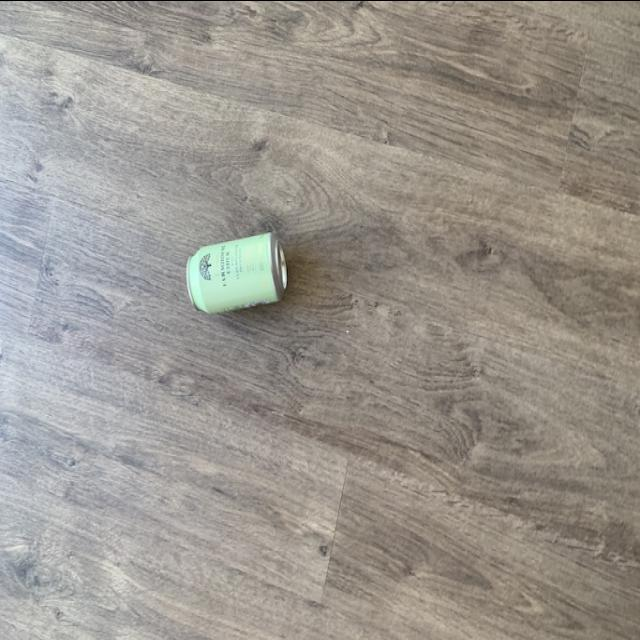litter: (180, 226, 294, 320)
